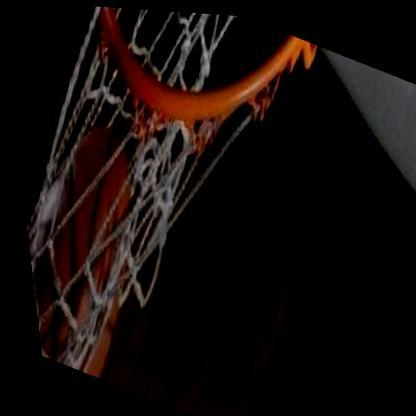basketball: (9, 98, 180, 385)
